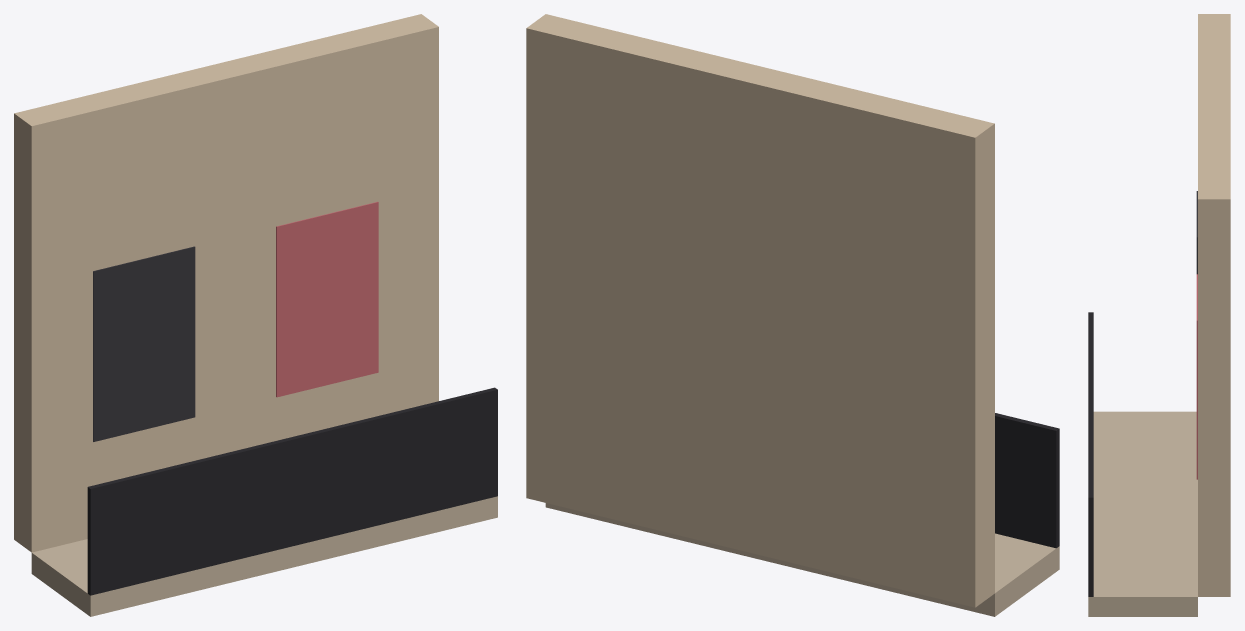
Rendered from city_far_res.glb.
The picture shows the model from 3 angles, left to right: view 1: azimuth 30°, elevation 25°; view 2: azimuth 150°, elevation 25°; view 3: azimuth 270°, elevation 25°; orthographic projection. The views are drawn at different scales.
Parts seen in each view (by area): view 1: CityFarRes_Wall, CityFarRes_Rail, CityFarRes_PaneB, CityFarRes_PaneA, CityFarRes_Balcony; view 2: CityFarRes_Wall, CityFarRes_Rail, CityFarRes_Balcony; view 3: CityFarRes_Balcony, CityFarRes_Wall, CityFarRes_Rail, CityFarRes_PaneB.
Part boxes in pixels (x1=…): CityFarRes_Wall: x1=14, y1=14, x2=438, y2=552; CityFarRes_Rail: x1=87, y1=387, x2=497, y2=595; CityFarRes_PaneB: x1=276, y1=201, x2=378, y2=397; CityFarRes_PaneA: x1=93, y1=246, x2=195, y2=441; CityFarRes_Balcony: x1=31, y1=496, x2=497, y2=616; CityFarRes_Wall: x1=526, y1=14, x2=994, y2=607; CityFarRes_Rail: x1=995, y1=413, x2=1059, y2=548; CityFarRes_Balcony: x1=545, y1=503, x2=1059, y2=616; CityFarRes_Balcony: x1=1088, y1=411, x2=1197, y2=616; CityFarRes_Wall: x1=1198, y1=14, x2=1230, y2=596; CityFarRes_Rail: x1=1088, y1=312, x2=1093, y2=596; CityFarRes_PaneB: x1=1196, y1=274, x2=1197, y2=479.
Bounding box in the file's own units: 4 × 4.2 × 1.3.
